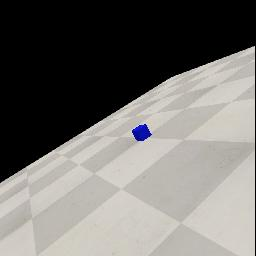box: (132, 124, 152, 141)
